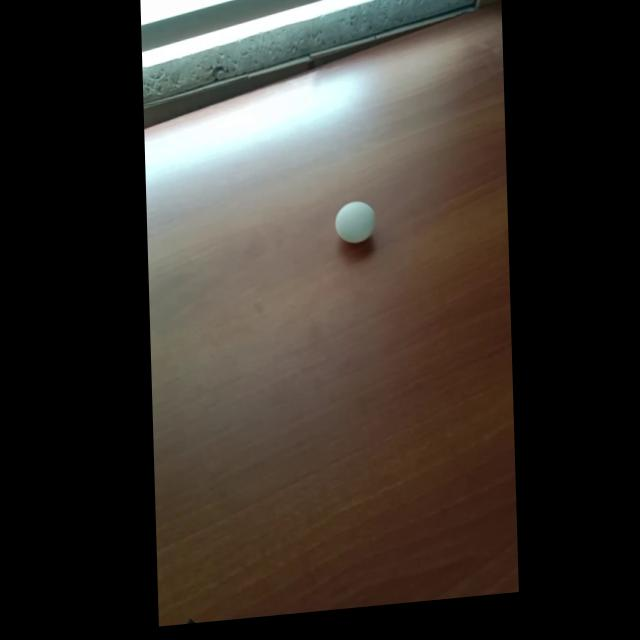white ball: (333, 199, 376, 246)
